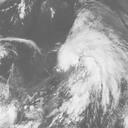cyclone: (55, 24, 121, 98)
